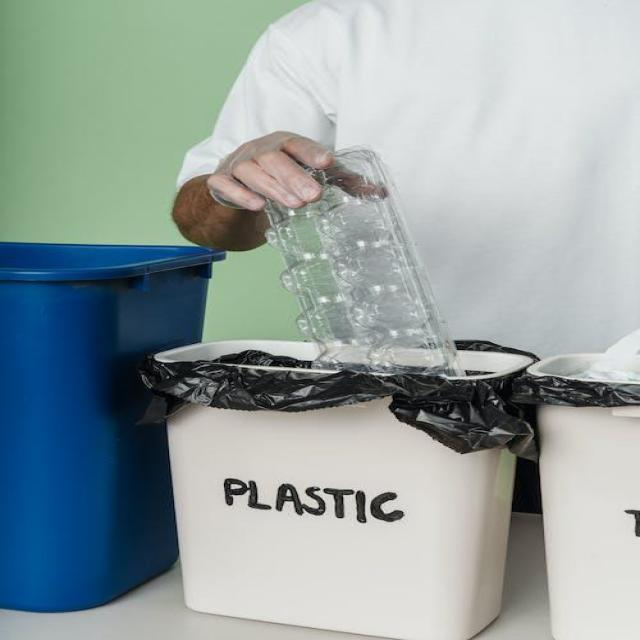plastic: (136, 358, 535, 464)
